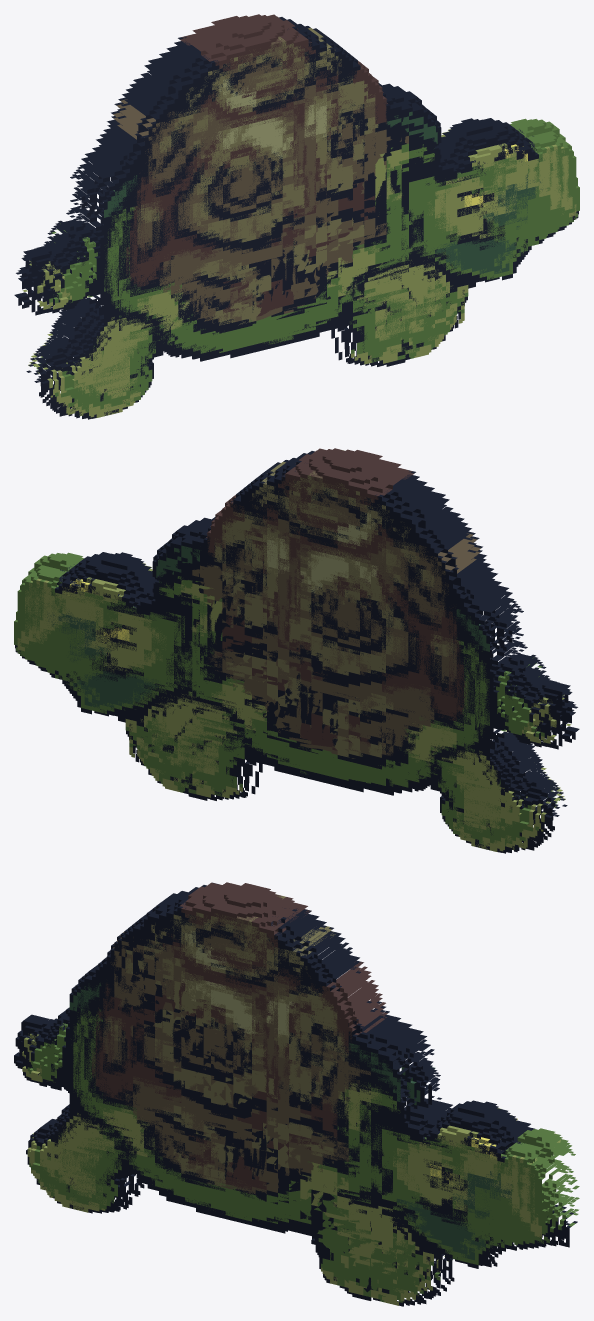
The model's file is tartaruga_andando.glb.
3 renders of one model, top to bottom at view 1: azimuth 30°, elevation 25°; view 2: azimuth 150°, elevation 25°; view 3: azimuth 330°, elevation 25°, orthographic.
Visible parts, largest first — view 1: q0, q1, q2, q5, q3, q4, q6; view 2: q0, q1, q2, q3, q5, q4, q6; view 3: q0, q1, q2, q3, q4, q5, q6.
Boxes of the visible parts, <box> form: q0: <box>20,47,561,408</box>; q1: <box>18,14,568,415</box>; q2: <box>19,17,576,419</box>; q5: <box>16,16,564,392</box>; q3: <box>21,47,579,416</box>; q4: <box>23,15,579,394</box>; q6: <box>14,29,561,403</box>; q0: <box>32,475,574,842</box>; q1: <box>25,448,575,850</box>; q2: <box>17,451,574,853</box>; q3: <box>14,480,572,850</box>; q5: <box>25,451,577,826</box>; q4: <box>14,449,570,828</box>; q6: <box>32,463,579,836</box>; q0: <box>19,917,560,1291</box>; q1: <box>18,891,567,1270</box>; q2: <box>19,888,575,1279</box>; q3: <box>21,921,579,1283</box>; q4: <box>22,884,579,1299</box>; q5: <box>15,882,567,1306</box>; q6: <box>14,883,564,1301</box>.
Size of the model in its own units: 150 by 94 by 16.
Materials: 1 (1 with a texture image).
